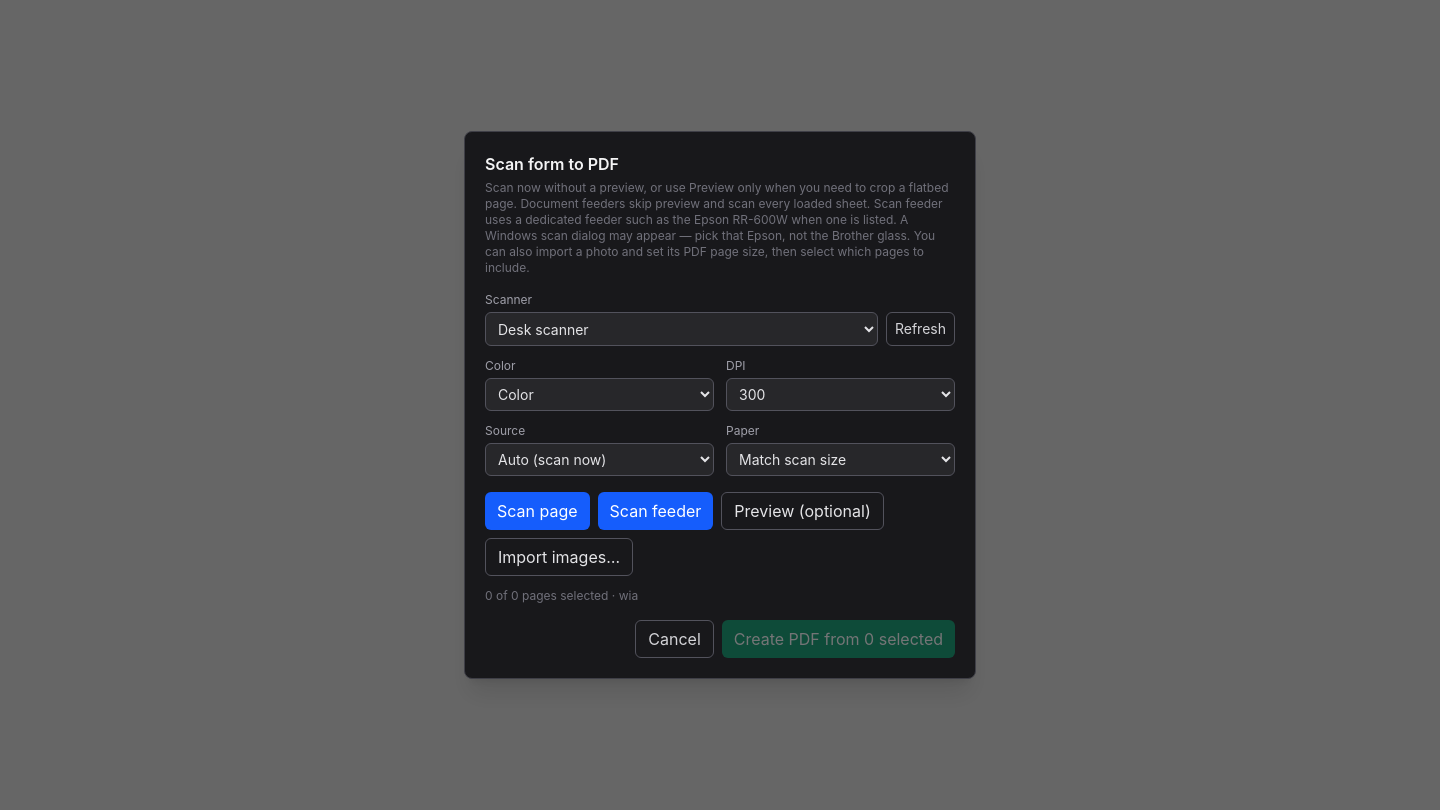
Test: ScanDialog › disables import until a page is selected
The width and height of the screenshot is (1440, 810).
Click the button with test id "scan-preview": (802, 511) [721,492,884,530]
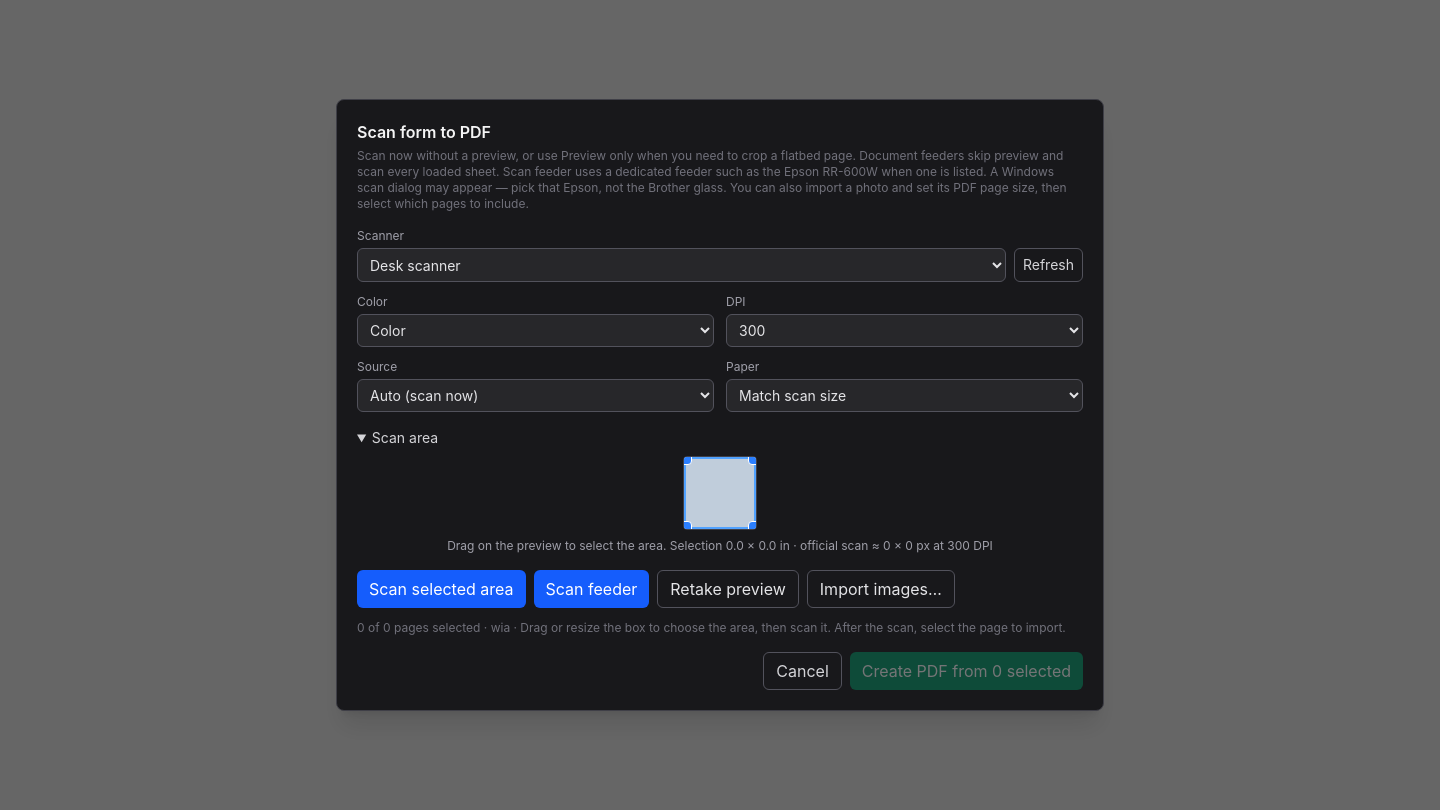
Click the button with test id "scan-official": (441, 589) [357,570,526,608]
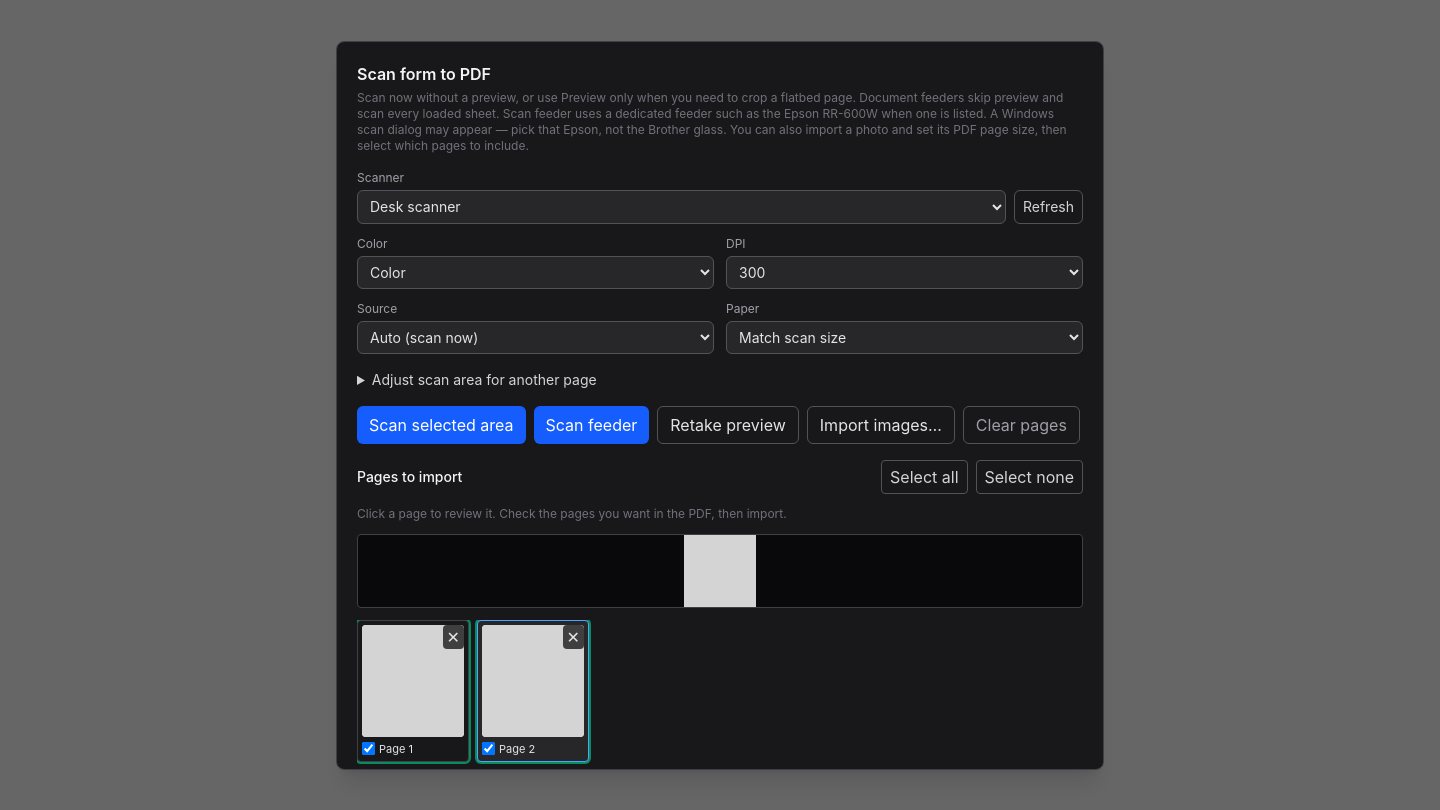
expect the element with test id "scan-page-picker" is shown: met, box [357,460,1083,770]
Click the button with test id "scan-select-none": (1029, 476) [976,460,1083,494]
(page scrolled)
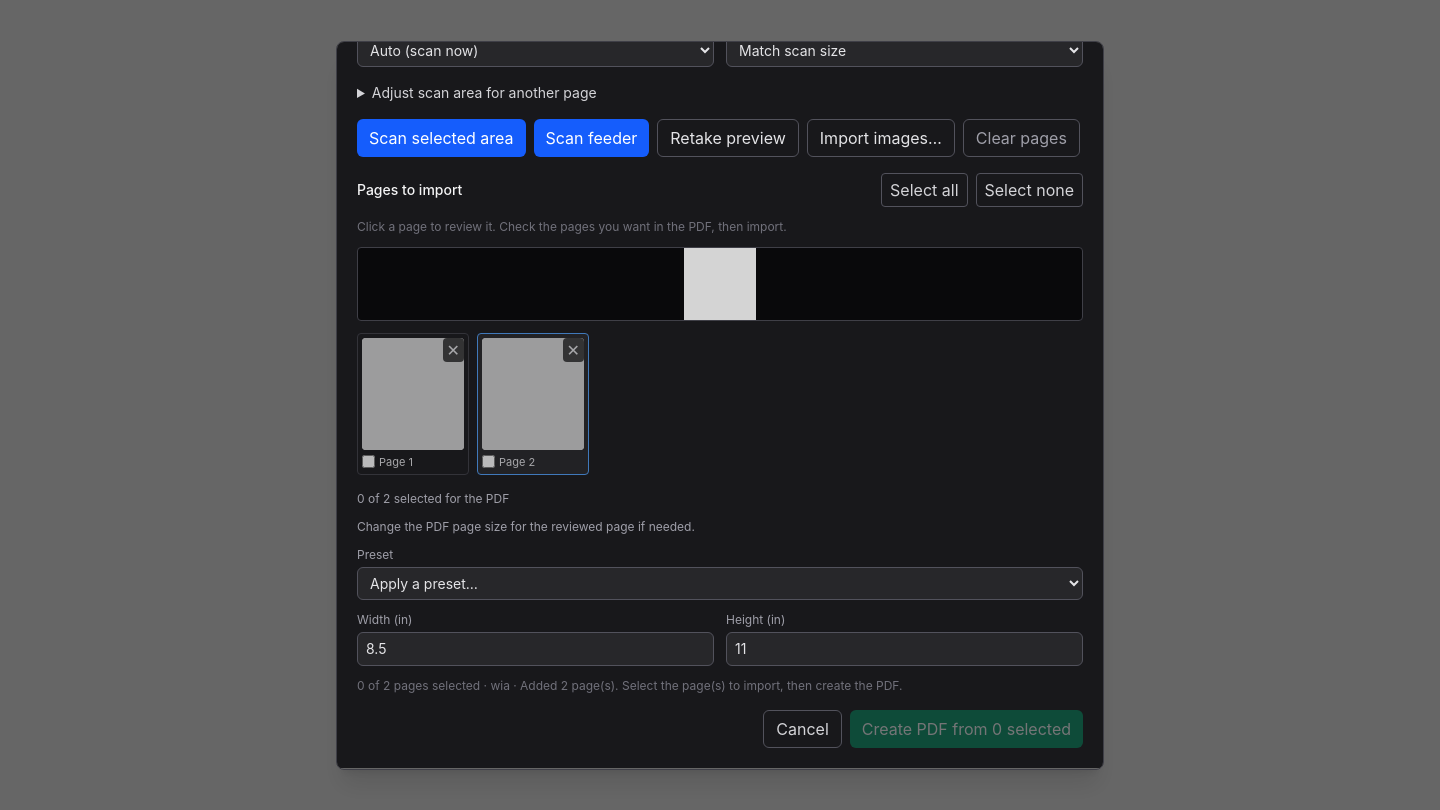
expect the button with test id "scan-create" is disabled: met, box [850,710,1083,748]
